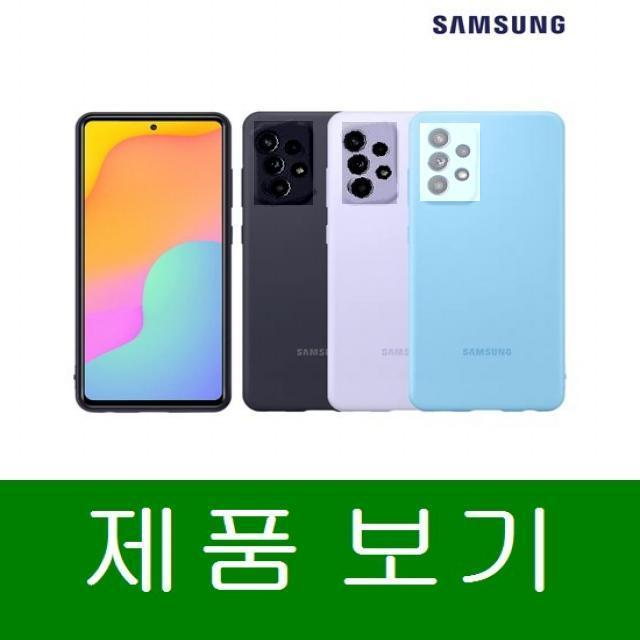phone: (67, 109, 232, 412), (409, 108, 567, 410), (330, 93, 415, 416), (243, 102, 324, 416)
